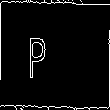P_N: (45, 29, 65, 81)
